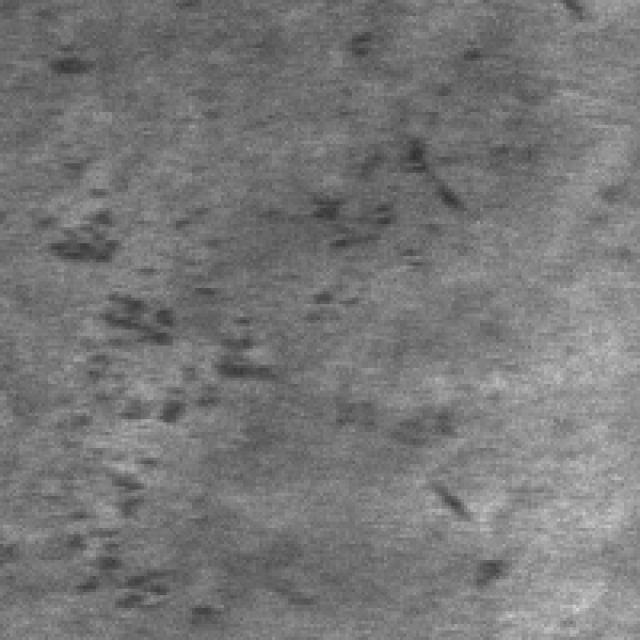rolled-in_scale: (54, 118, 272, 618), (308, 115, 487, 474)
